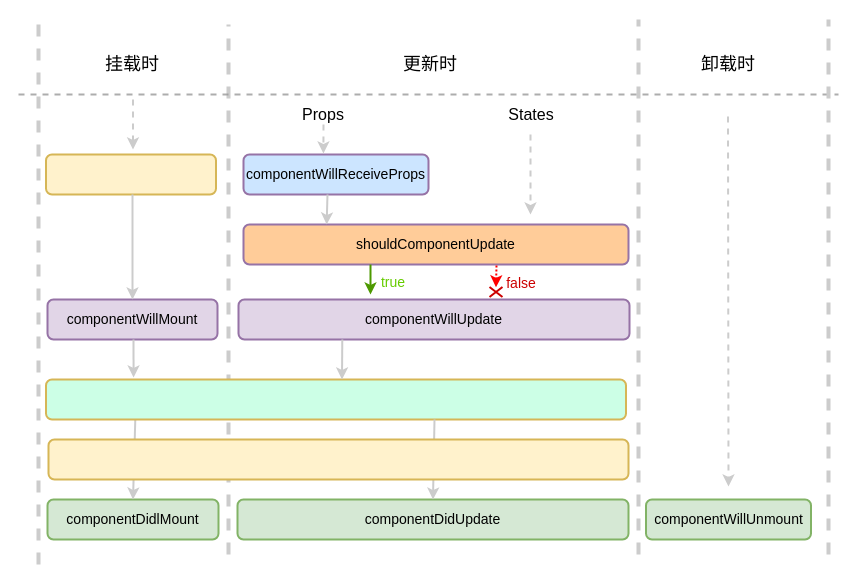
Image size: 857x584. Some labels were removed from this diagram. The centre of each missing label's shape, as x and y in pixels:
constructor: the point at 130,174
React 更新DOM 和 refs: the point at 338,459
render: the point at 335,399
